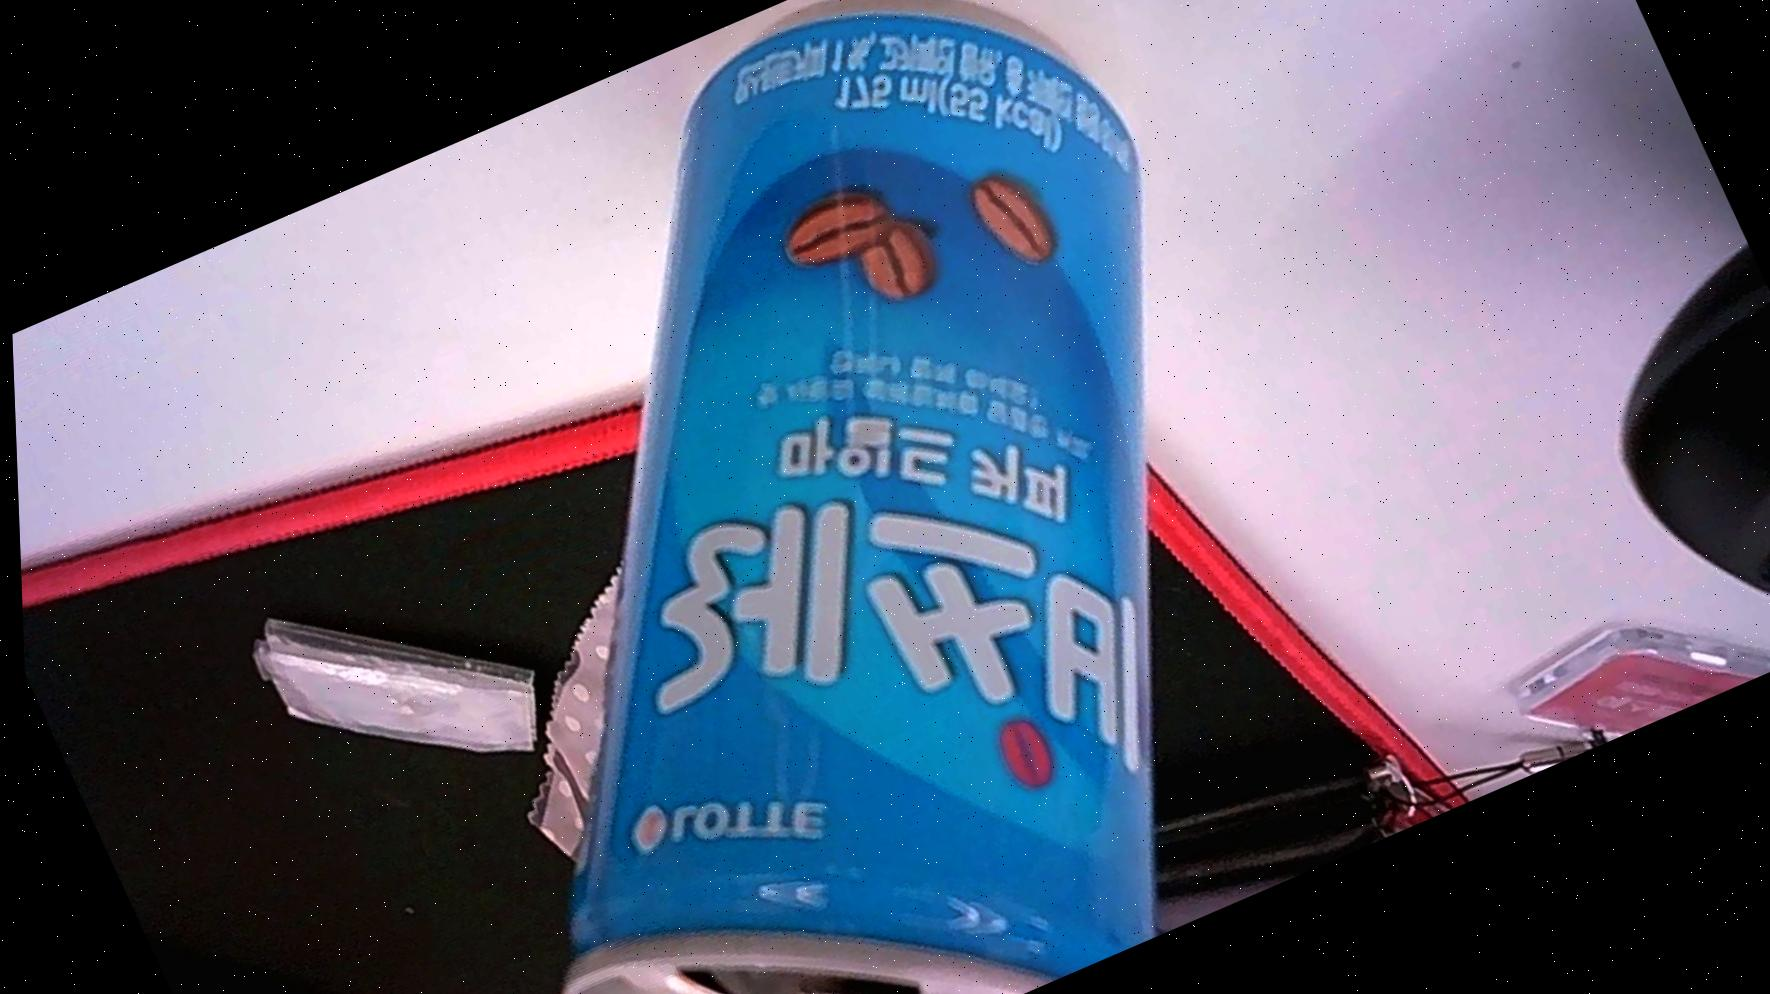letsbe: (214, 0, 1439, 994)
